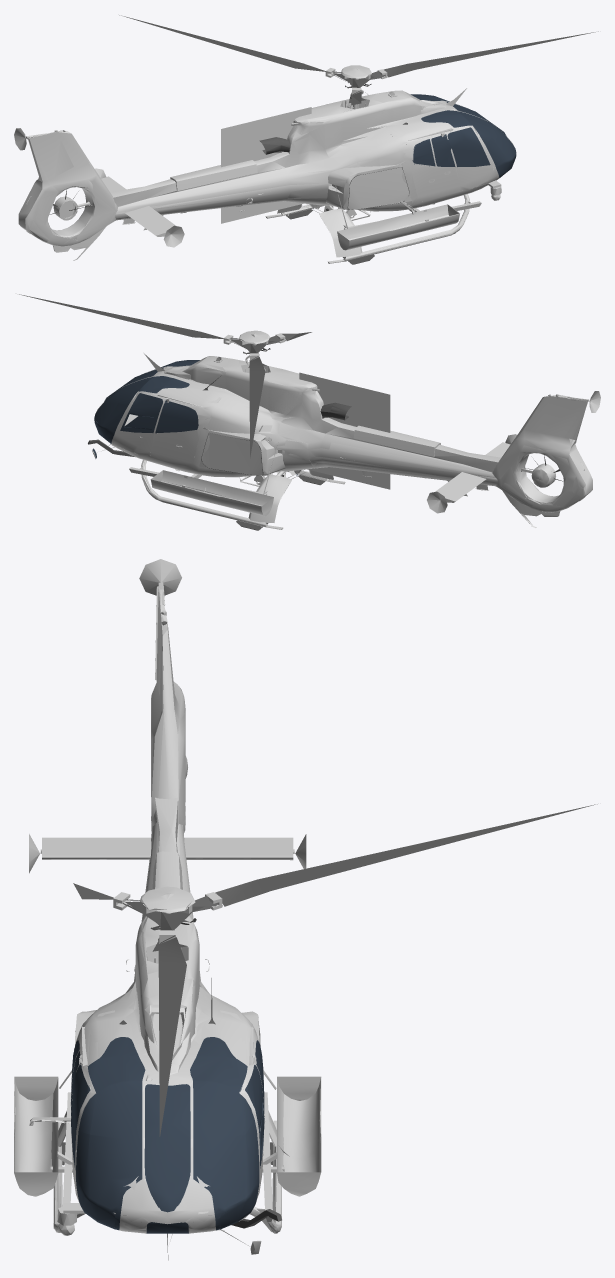
3 renders of one model, top to bottom at view 1: azimuth 30°, elevation 25°; view 2: azimuth 150°, elevation 25°; view 3: azimuth 270°, elevation 25°, orthographic. The views are drawn at different scales.
Visible parts, largest first — view 1: body, glass, spin, trim; view 2: body, glass, spin, trim; view 3: body, glass, spin.
Part boxes in pixels (x1=…): body: x1=14, y1=65, x2=514, y2=263; glass: x1=313, y1=94, x2=516, y2=208; spin: x1=119, y1=15, x2=598, y2=105; trim: x1=63, y1=92, x2=409, y2=264; body: x1=92, y1=330, x2=600, y2=529; glass: x1=92, y1=360, x2=297, y2=475; spin: x1=19, y1=294, x2=311, y2=458; trim: x1=88, y1=376, x2=550, y2=530; body: x1=14, y1=559, x2=321, y2=1260; glass: x1=71, y1=1037, x2=264, y2=1233; spin: x1=73, y1=804, x2=597, y2=1136.
Size of the model in its own units: 2.2 by 0.6676 by 1.09.
